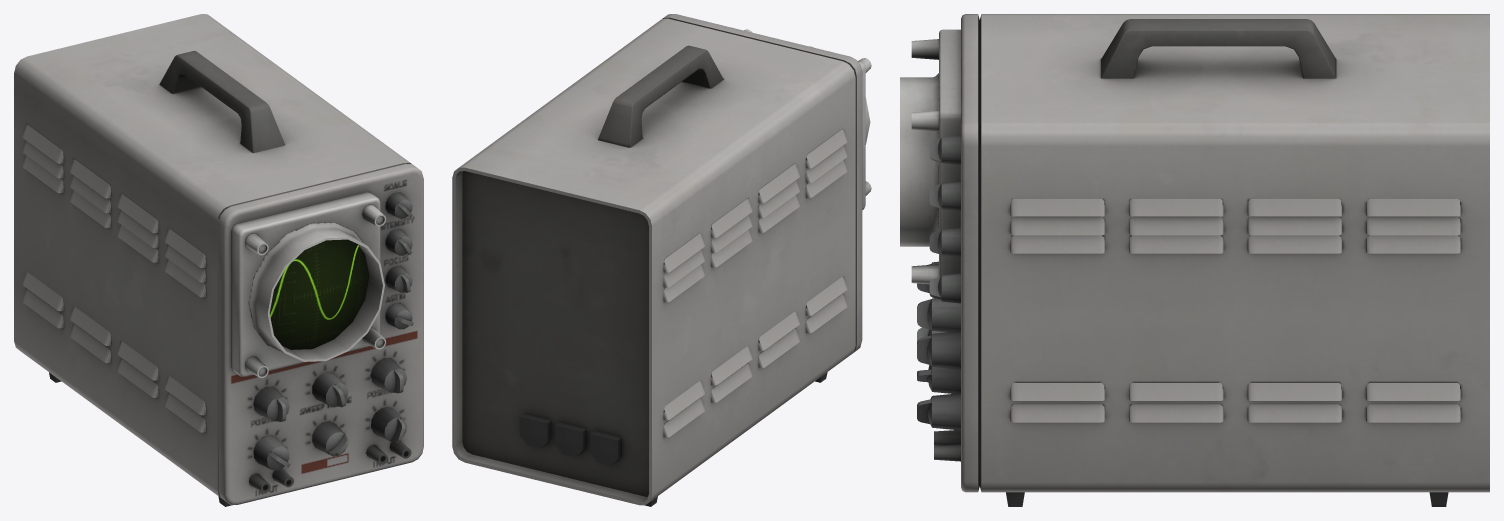
Rendered from oscillograph.glb.
3 views of the same model, side by side, from view 1: azimuth 30°, elevation 25°; view 2: azimuth 150°, elevation 25°; view 3: azimuth 270°, elevation 25° (orthographic). The views are drawn at different scales.
Visible parts, largest first — view 1: oscilloscope; view 2: oscilloscope; view 3: oscilloscope.
Part boxes in pixels (bbox=[...]): oscilloscope: bbox=[14, 14, 423, 506]; oscilloscope: bbox=[452, 14, 871, 506]; oscilloscope: bbox=[900, 14, 1489, 506].
Size of the model in its own units: 17.83 by 28.2 by 34.8.
Materials: 1 (1 with a texture image).
